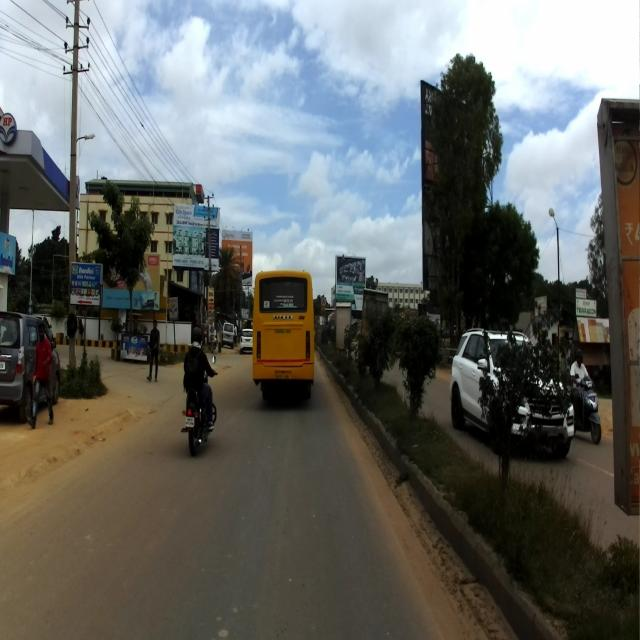bus: (252, 270, 317, 404)
car: (448, 326, 574, 462), (0, 309, 61, 414)
motorcycle: (180, 354, 217, 457)
